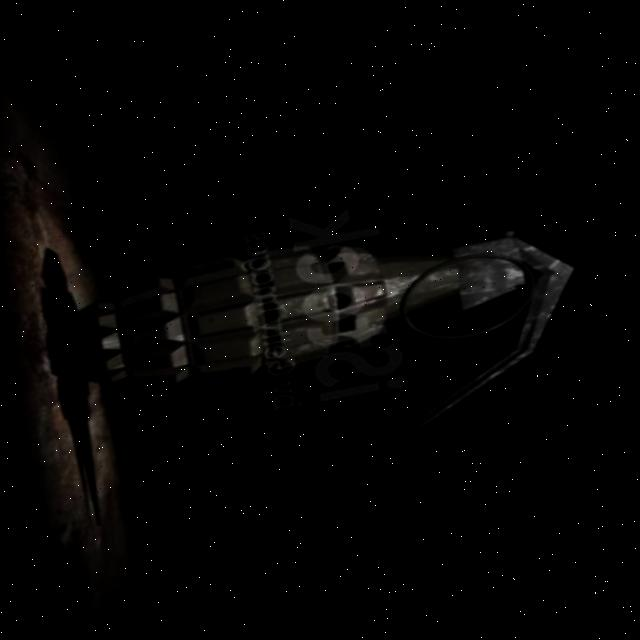grenade: (36, 169, 608, 521)
